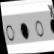correct: (19, 21, 31, 41)
no answer: (34, 19, 46, 38), (5, 24, 16, 42)
not correct: (44, 3, 54, 37)
